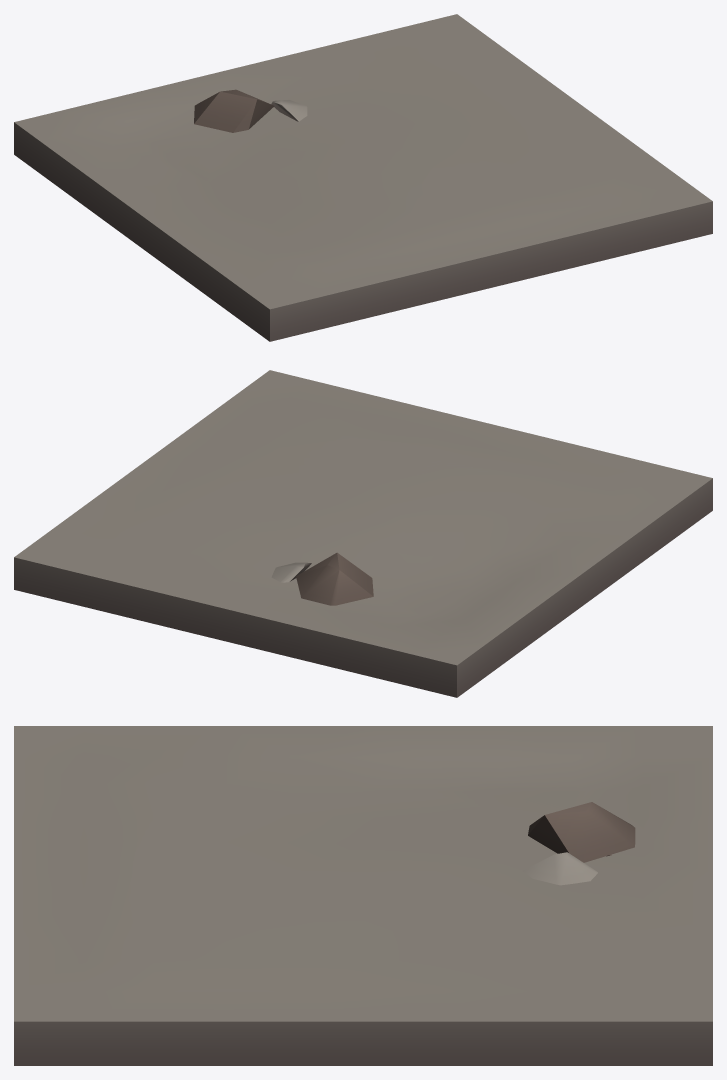
Rendered from floor_cave_small_F.glb.
The picture shows the model from 3 angles, top to bottom: view 1: azimuth 30°, elevation 25°; view 2: azimuth 150°, elevation 25°; view 3: azimuth 270°, elevation 25°; orthographic projection. The views are drawn at different scales.
Parts seen in each view (by area): view 1: Item; view 2: Item; view 3: Item.
Part boxes in pixels (x1,y1,x2,y2): Item: (14, 14, 712, 341); Item: (14, 370, 712, 697); Item: (14, 726, 712, 1065).
Size of the model in its own units: 2 by 0.2416 by 2.
1 material, 1 textured.
